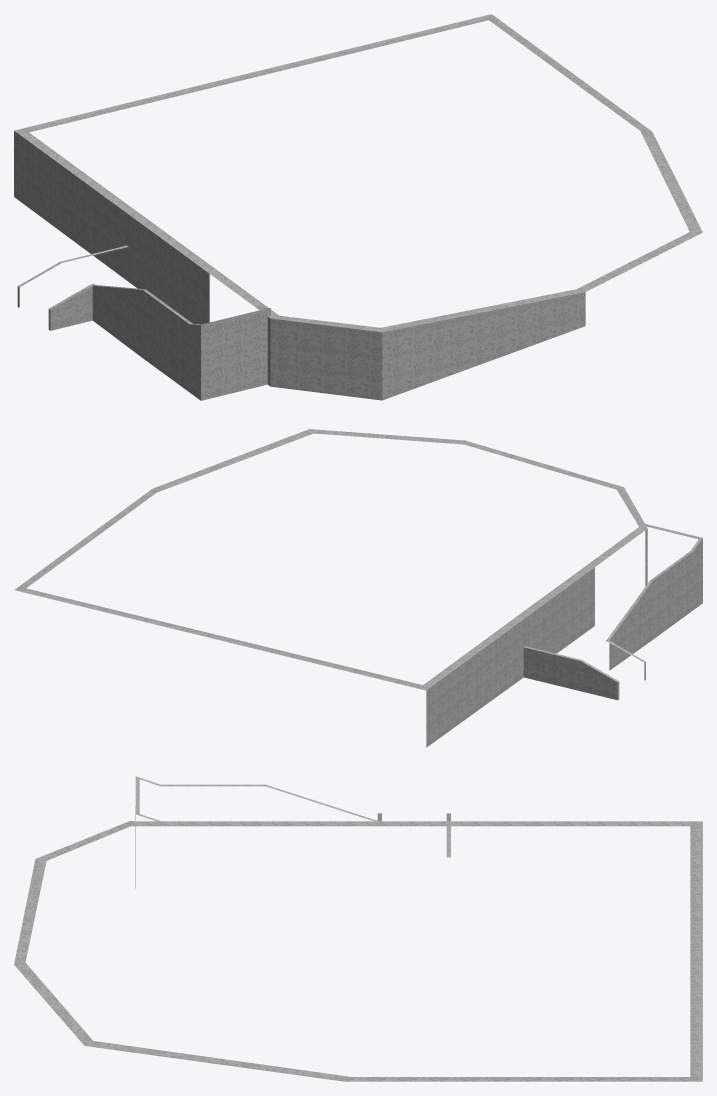
Rendered from kd_stage_1364a3_10_1_bounded.glb.
The picture shows the model from 3 angles, top to bottom: view 1: azimuth 30°, elevation 25°; view 2: azimuth 150°, elevation 25°; view 3: azimuth 270°, elevation 25°; orthographic projection. The views are drawn at different scales.
Visible parts, largest first — view 1: kd_stage_1364a3_10_1_bounded; view 2: kd_stage_1364a3_10_1_bounded; view 3: kd_stage_1364a3_10_1_bounded.
Part boxes in pixels (x1,y1,x2,y2): kd_stage_1364a3_10_1_bounded: (14, 14, 702, 400); kd_stage_1364a3_10_1_bounded: (14, 429, 702, 747); kd_stage_1364a3_10_1_bounded: (14, 776, 702, 1081).
Bounding box in the file's own units: 77.5 × 9.56 × 70.52.
1 material, 1 textured.
